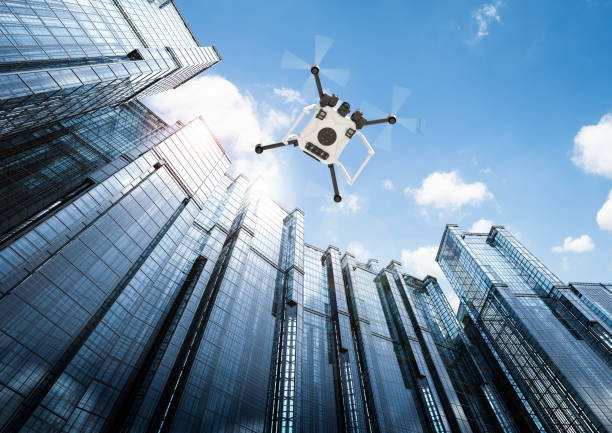Drone: (236, 33, 417, 220)
